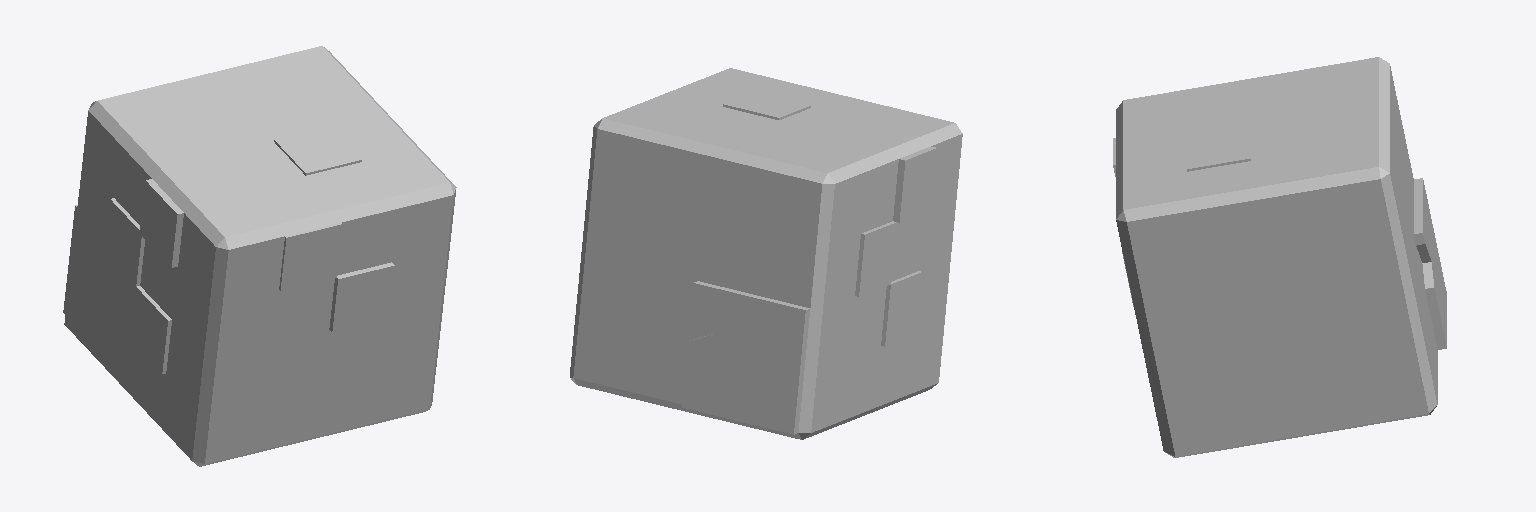
File: butter.obj
The picture shows the model from 3 angles: view 1: azimuth 30°, elevation 25°; view 2: azimuth 150°, elevation 25°; view 3: azimuth 270°, elevation 25°; orthographic projection.
Parts seen in each view (by area): view 1: Cube_Cube.001; view 2: Cube_Cube.001; view 3: Cube_Cube.001.
Boxes of the visible parts, x1=… form: Cube_Cube.001: x1=63, y1=46, x2=456, y2=466; Cube_Cube.001: x1=570, y1=68, x2=962, y2=439; Cube_Cube.001: x1=1113, y1=57, x2=1446, y2=457.
Size of the model in its own units: 1.18 by 1.32 by 1.37.